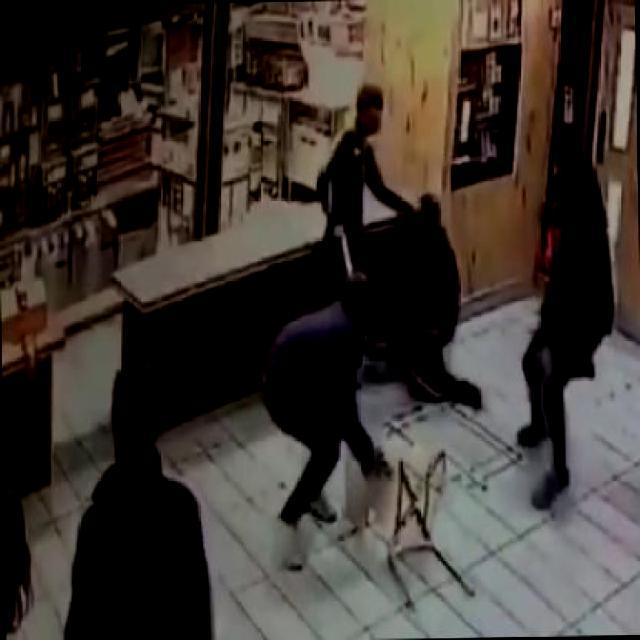fight: (313, 84, 456, 347)
